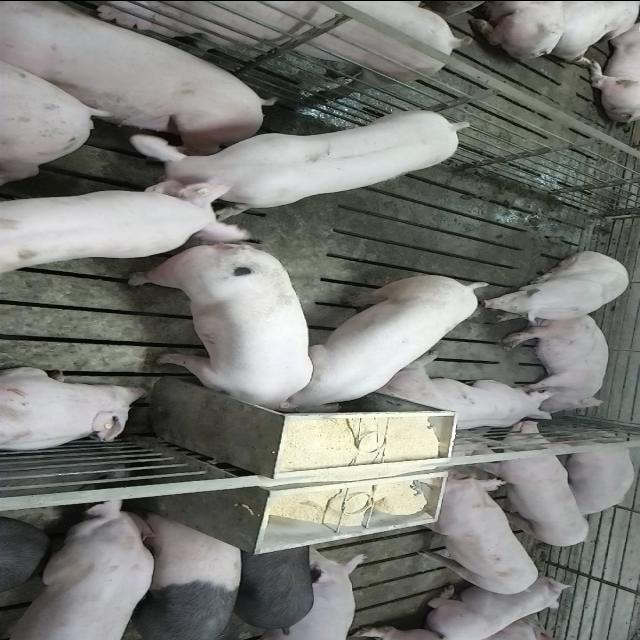Feeding: (125, 247, 315, 420), (285, 270, 497, 410)
Lateral_lying: (499, 310, 610, 414)
Sitting: (480, 250, 634, 324)
Standing: (132, 106, 472, 222), (74, 0, 466, 98), (0, 174, 249, 274), (0, 498, 159, 638), (118, 511, 245, 638), (413, 472, 540, 598), (476, 419, 590, 548), (229, 534, 317, 636)
Sternal_lying: (372, 357, 554, 432), (0, 366, 149, 453), (419, 576, 571, 638)
